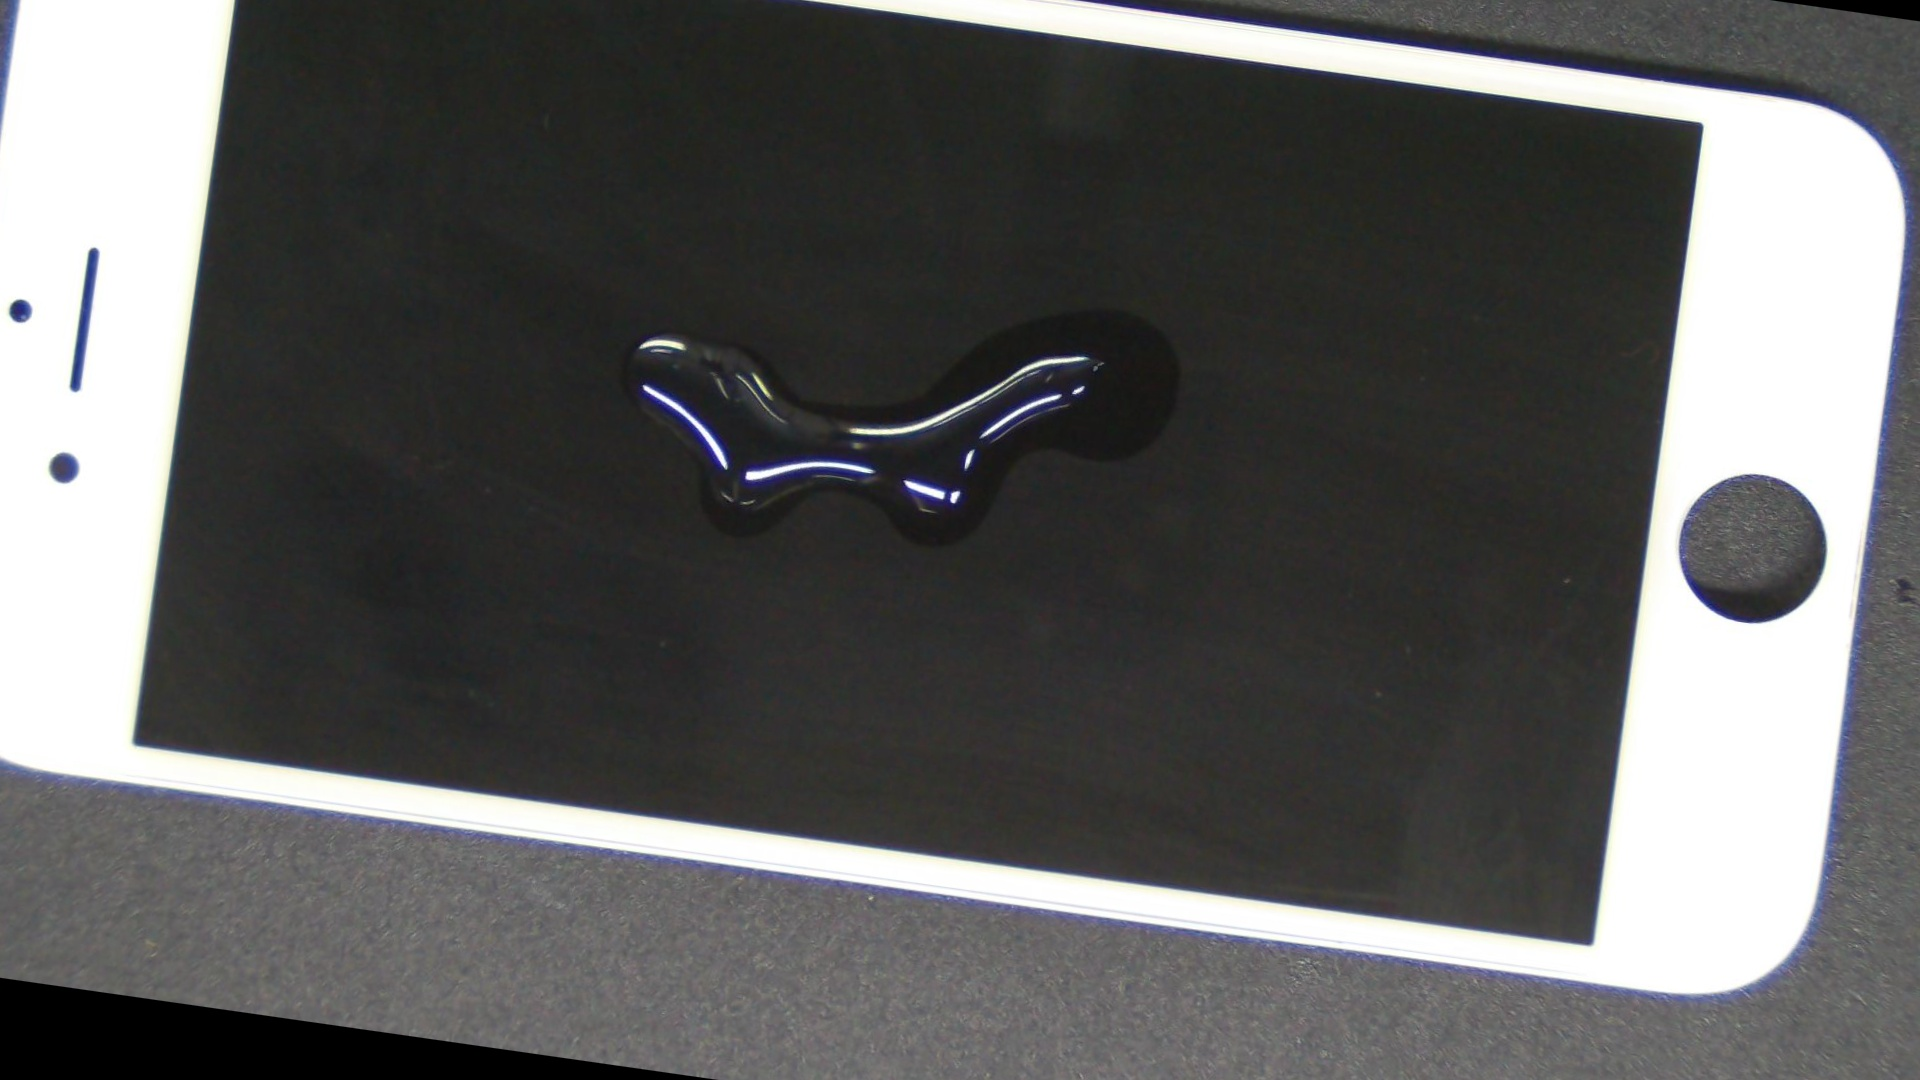oil: (505, 28, 1705, 584)
